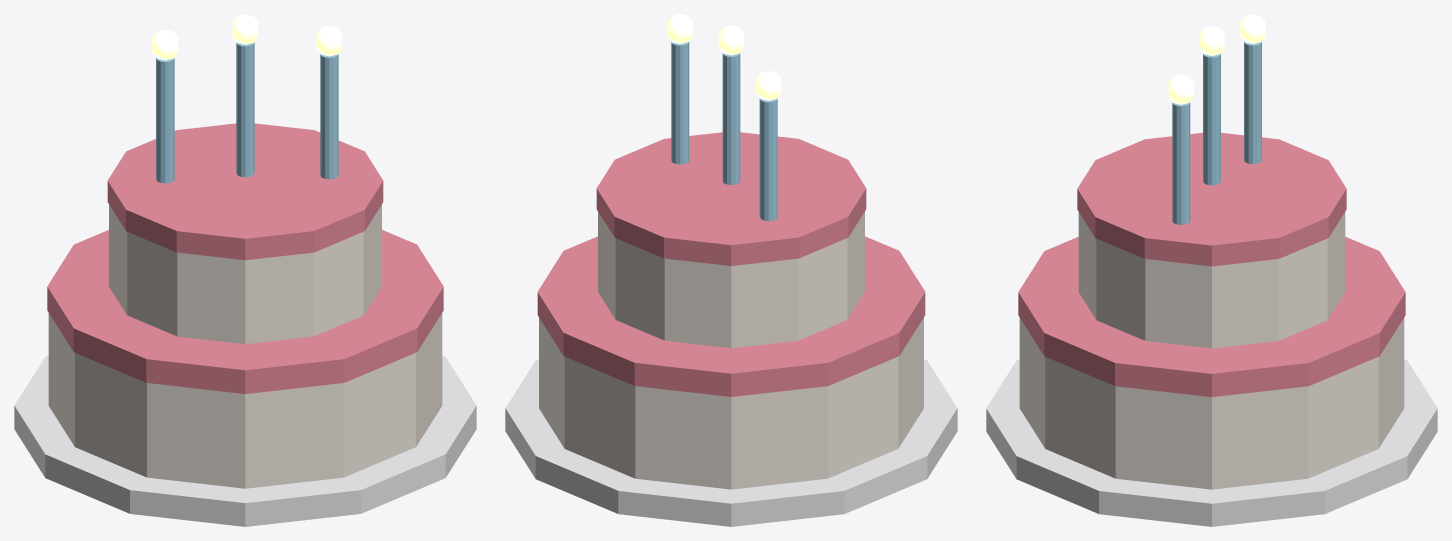
File: cake.glb
3 views of the same model, side by side, from view 1: azimuth 30°, elevation 25°; view 2: azimuth 150°, elevation 25°; view 3: azimuth 270°, elevation 25° (orthographic). The views are drawn at different scales.
Visible parts, largest first — view 1: cake; view 2: cake; view 3: cake.
Part boxes in pixels (<box>): cake: <box>14,14,476,526</box>; cake: <box>505,14,957,526</box>; cake: <box>986,14,1437,526</box>.
Bounding box in the file's own units: 0.176 × 0.174 × 0.176.
